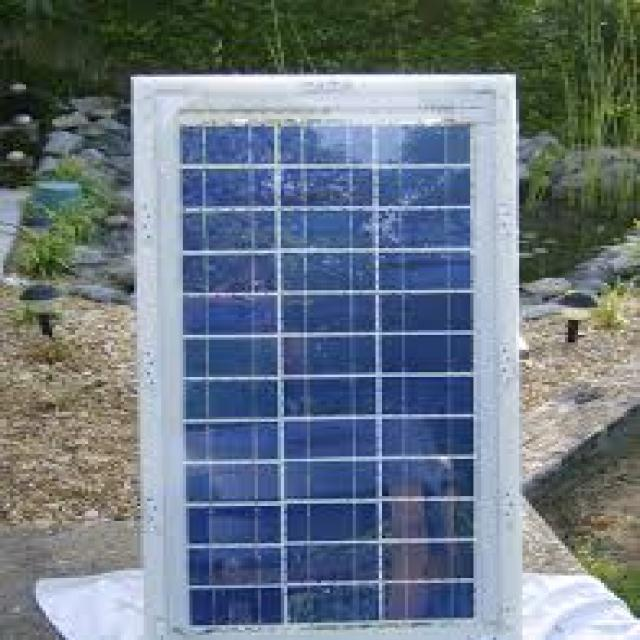faulty: (182, 113, 484, 639)
